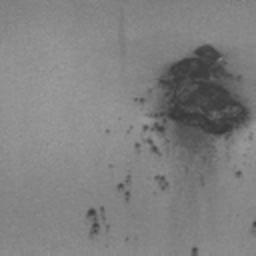Iron sheet ash: (154, 46, 248, 136), (155, 122, 164, 132), (87, 210, 99, 216), (92, 224, 100, 233), (193, 247, 198, 256)
